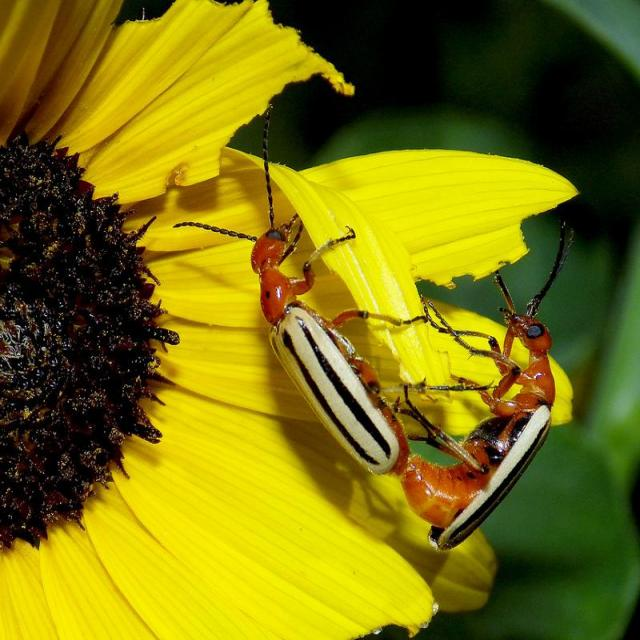BlisterBeetle-Adult-: (191, 132, 409, 481), (406, 234, 578, 583)
